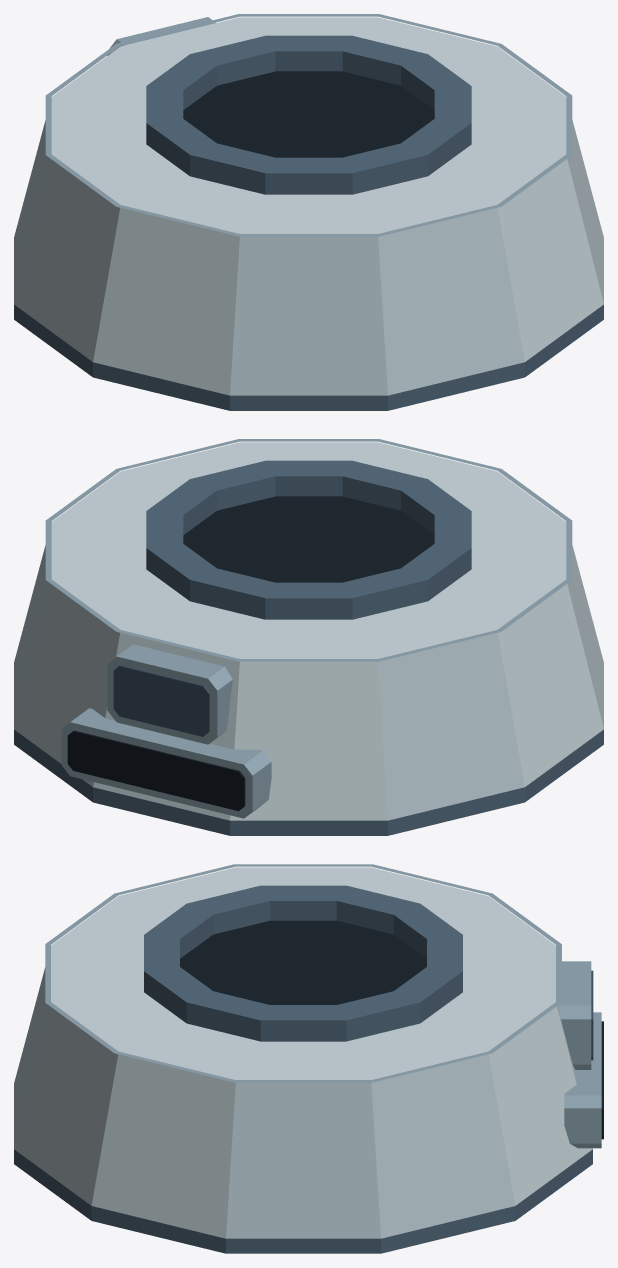
The model's file is BIY_TimerPedestal_Simple_Fallback.obj.
3 views of the same model, one above another, from view 1: azimuth 30°, elevation 25°; view 2: azimuth 150°, elevation 25°; view 3: azimuth 270°, elevation 25° (orthographic).
Visible parts, largest first — view 1: 01_LowPoly_Ceramic_Body, 02_NodeType_Frame; view 2: 01_LowPoly_Ceramic_Body, 05_Countdown_Blank_Surface, 04_Countdown_Frame, 03_NodeType_Blank_Surface, 02_NodeType_Frame; view 3: 01_LowPoly_Ceramic_Body, 04_Countdown_Frame, 02_NodeType_Frame.
Boxes of the visible parts, x1,y1,x2,y2 form: 01_LowPoly_Ceramic_Body: (14,14,603,410); 02_NodeType_Frame: (107,17,215,55); 01_LowPoly_Ceramic_Body: (14,439,603,835); 05_Countdown_Blank_Surface: (67,730,245,811); 04_Countdown_Frame: (61,708,271,818); 03_NodeType_Blank_Surface: (113,665,209,736); 02_NodeType_Frame: (107,644,232,744); 01_LowPoly_Ceramic_Body: (14,864,592,1253); 04_Countdown_Frame: (564,1012,601,1148); 02_NodeType_Frame: (558,961,591,1069).
Size of the model in its own units: 0.7708 by 0.262 by 0.7854.
